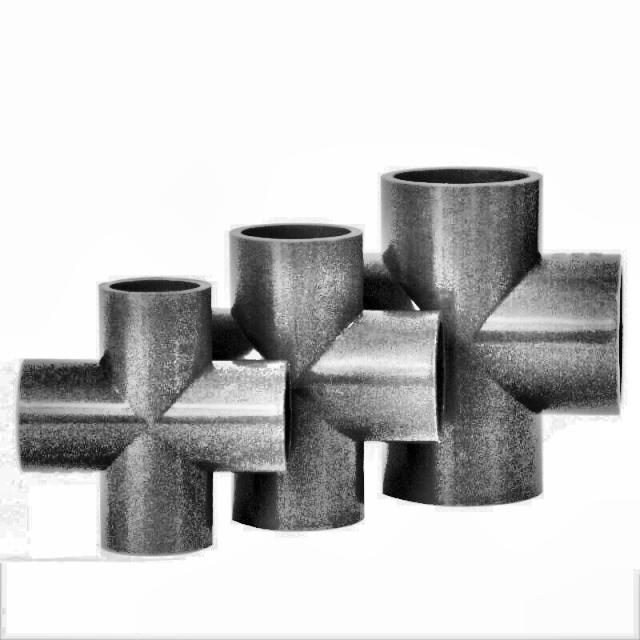EQUALCROSS: (16, 277, 289, 557)
